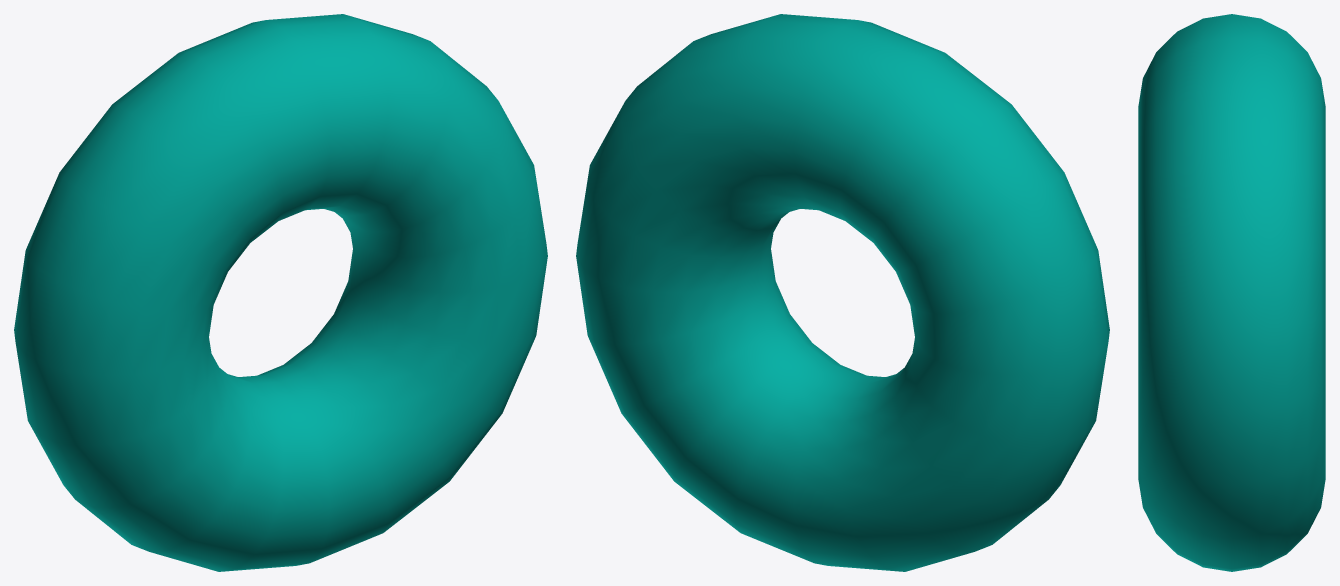
File: PHONG_COLLAR_RING.fbx
3 views of the same model, side by side, from view 1: azimuth 30°, elevation 25°; view 2: azimuth 150°, elevation 25°; view 3: azimuth 270°, elevation 25° (orthographic). The views are drawn at different scales.
Visible parts, largest first — view 1: pTorus1; view 2: pTorus1; view 3: pTorus1.
Part boxes in pixels (x1=…): pTorus1: x1=14, y1=14, x2=547, y2=571; pTorus1: x1=576, y1=14, x2=1109, y2=571; pTorus1: x1=1138, y1=14, x2=1325, y2=571.
Bounding box in the file's own units: 1.94 × 1.94 × 0.6461.
